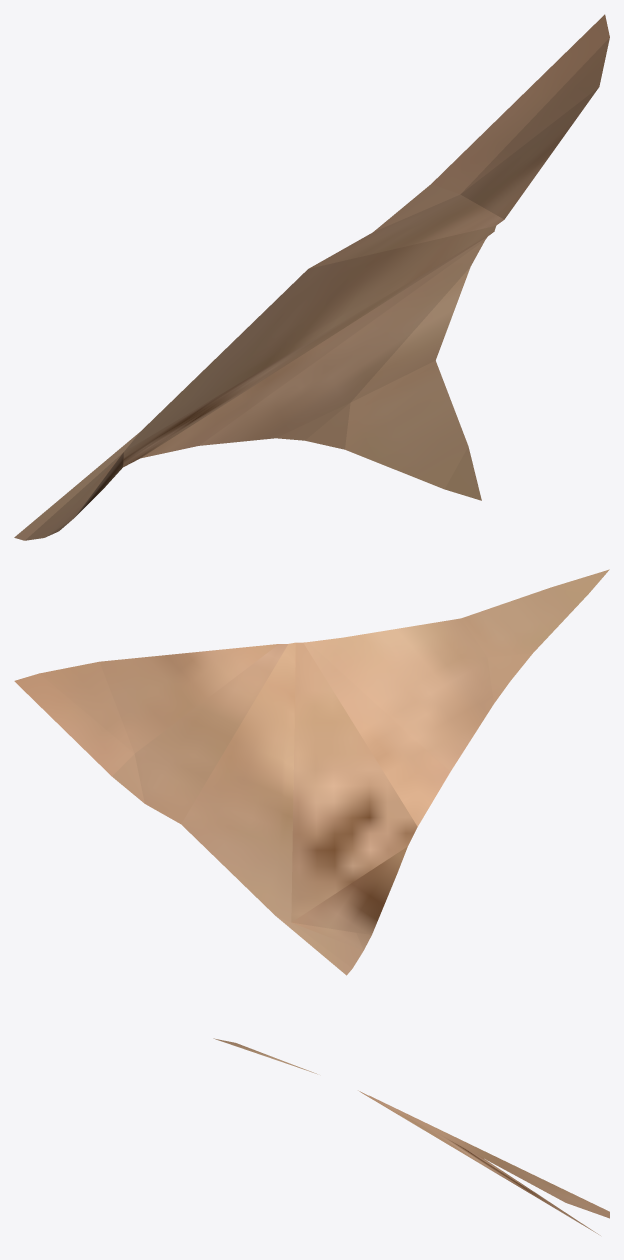
The picture shows the model from 3 angles, top to bottom: view 1: azimuth 30°, elevation 25°; view 2: azimuth 150°, elevation 25°; view 3: azimuth 270°, elevation 25°; orthographic projection. The views are drawn at different scales.
Bounding box in the file's own units: 0.089 × 0.0546 × 0.122.
1 material, 1 textured.
